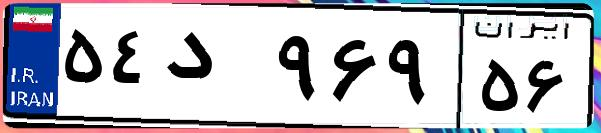4: (110, 28, 158, 98)
5: (57, 26, 110, 100), (475, 38, 525, 113)
6: (330, 28, 385, 110), (525, 38, 570, 115)
9: (270, 28, 330, 110), (385, 28, 445, 110)
د: (158, 20, 270, 120)
